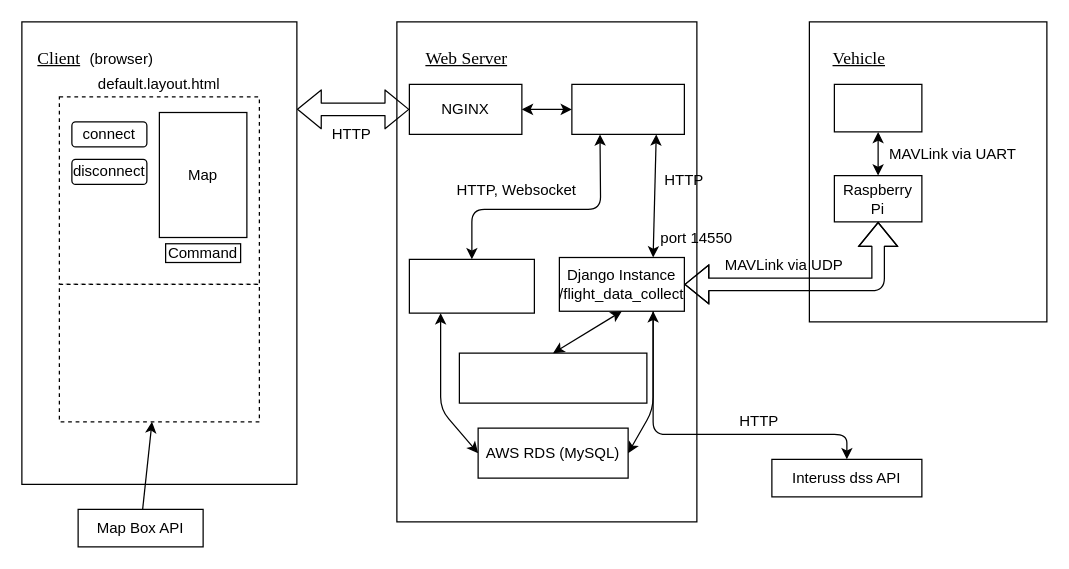
Some shapes in this 1069 by 569 pixel diagram are drawn without their labels. Here are the shapes that lost their labels. From the top down, the centre of each, then its label:
At (627,108): "Daphne".
At (877,107): "Flight Controller".
At (471,285): "Django Instance /flightmonitor".
At (158,352): "Map.js Common.js (WebSocket Connection)".
At (552,377): "django_background_tasks".
